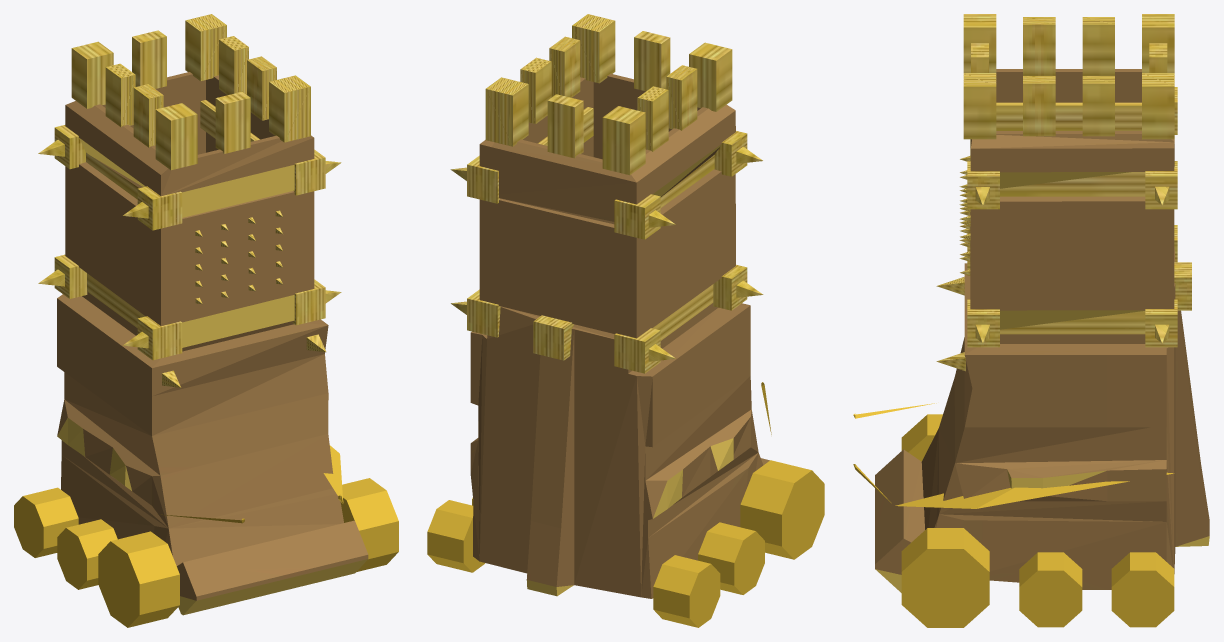
File: ae_siege_tower_open_royal_lod1.glb
3 renders of one model, left to right at view 1: azimuth 30°, elevation 25°; view 2: azimuth 150°, elevation 25°; view 3: azimuth 270°, elevation 25°, orthographic. The views are drawn at different scales.
Visible parts, largest first — view 1: siege_tower_open; view 2: siege_tower_open; view 3: siege_tower_open.
Part boxes in pixels (left/top/right/bottom): siege_tower_open: left=14, top=14, right=398, bottom=627; siege_tower_open: left=427, top=14, right=824, bottom=627; siege_tower_open: left=853, top=14, right=1209, bottom=627.
Bounding box in the file's own units: 46.39 × 82.22 × 51.97.
Materials: 4 (3 with a texture image).
